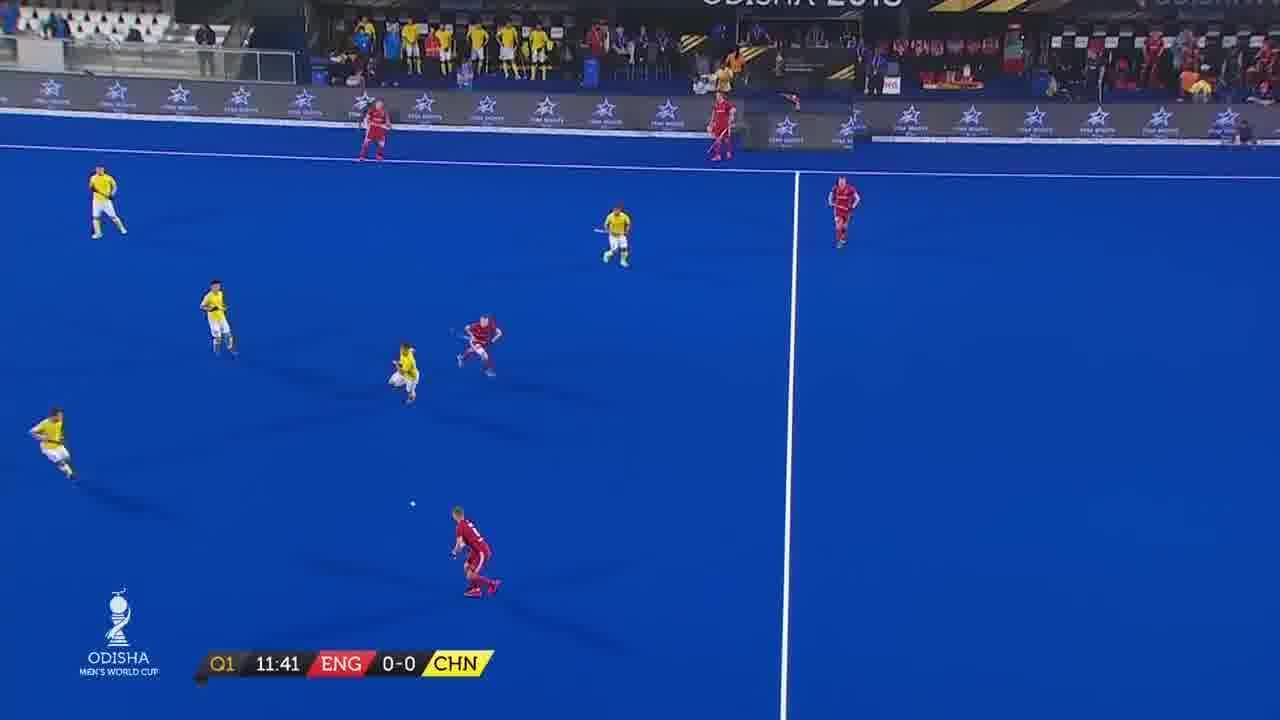ball: (400, 497, 430, 514)
